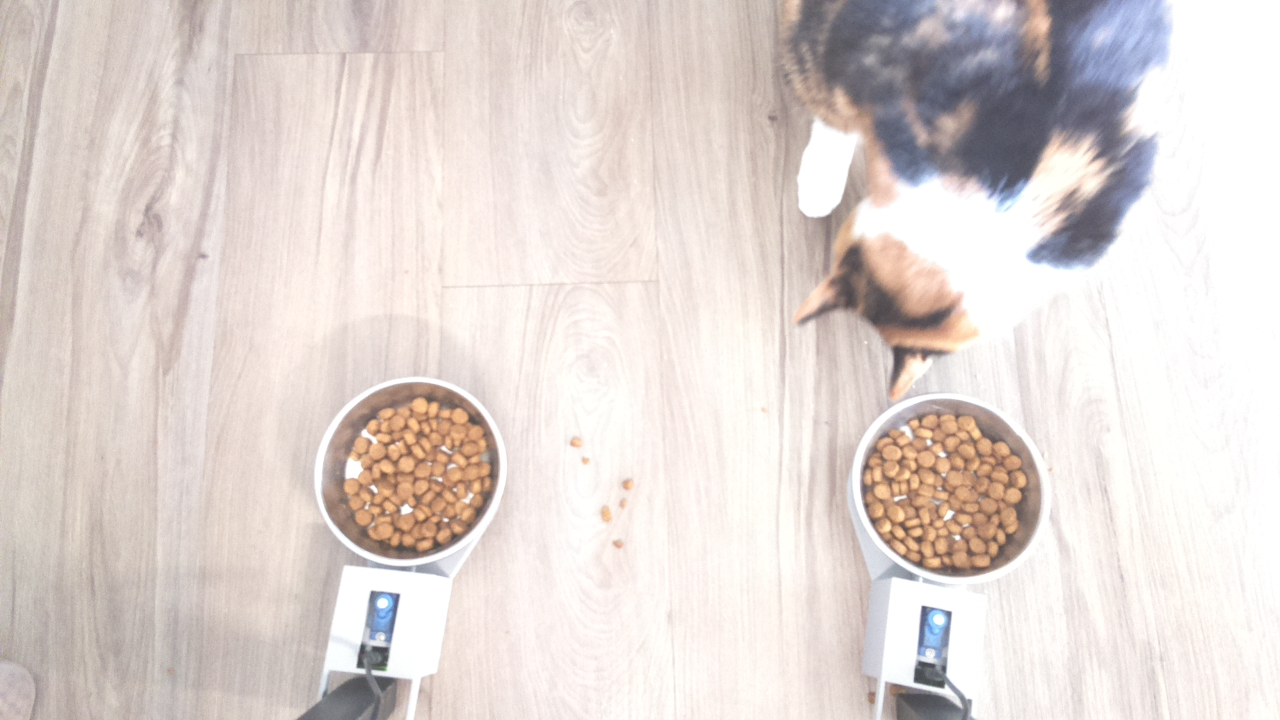bella: (806, 144, 1077, 392)
open_bowl: (848, 391, 1047, 587), (311, 377, 509, 571)
